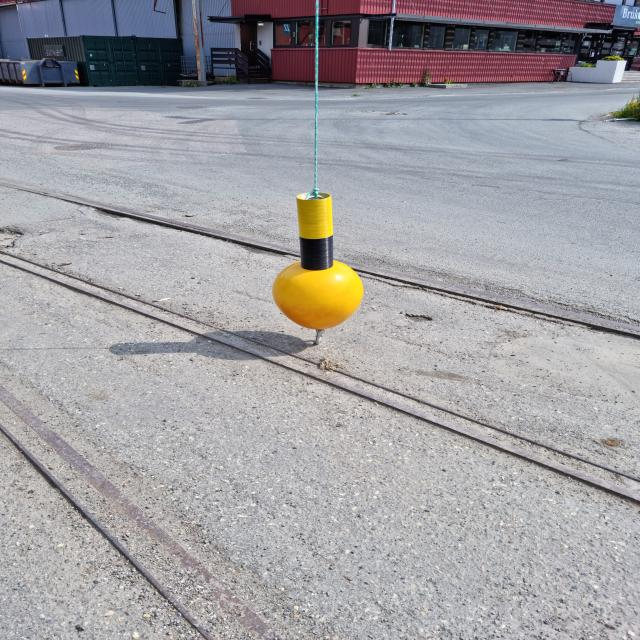west: (270, 192, 366, 331)
